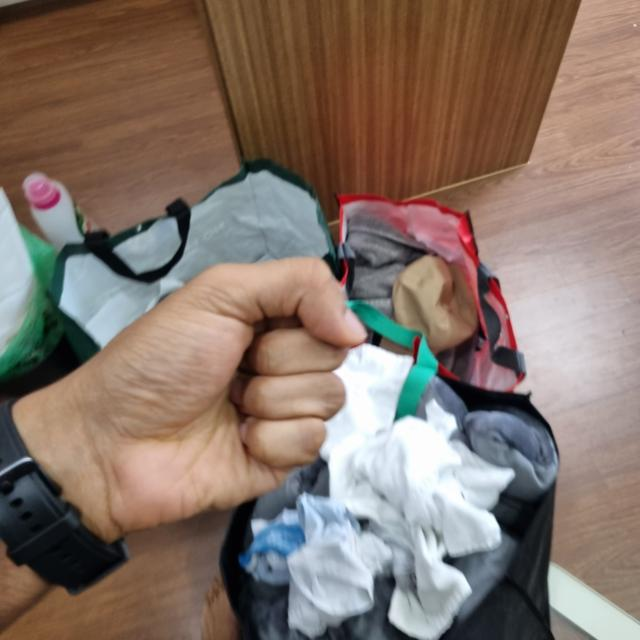Rock: (15, 253, 365, 537)
